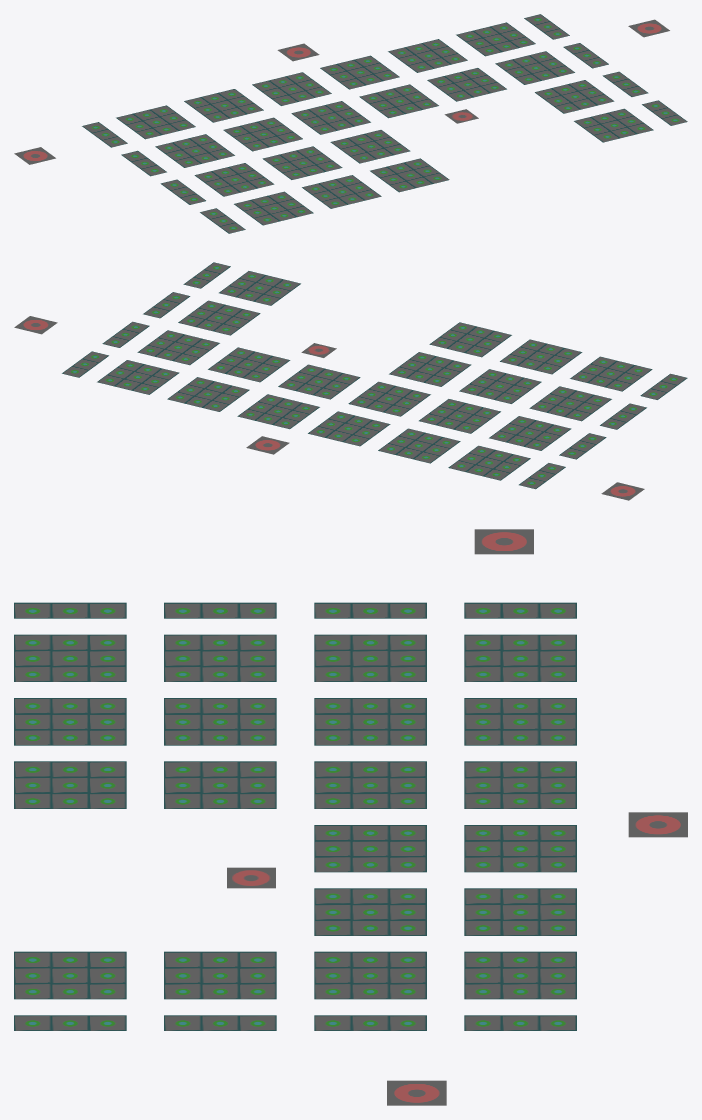
Rendered from tobuild.obj.
3 renders of one model, top to bottom at view 1: azimuth 30°, elevation 25°; view 2: azimuth 150°, elevation 25°; view 3: azimuth 270°, elevation 25°, orthographic. The views are drawn at different scales.
Parts seen in each view (by area): view 1: tobuild_railway_Plane.226, tobuild_airport_Plane.228, tobuild_factory_Plane.229; view 2: tobuild_railway_Plane.226, tobuild_airport_Plane.228, tobuild_factory_Plane.229; view 3: tobuild_factory_Plane.229, tobuild_airport_Plane.228, tobuild_railway_Plane.226, tobuild_sea_Plane.227.
Part boxes in pixels (x1=…): tobuild_railway_Plane.226: x1=277, y1=43, x2=319, y2=61; tobuild_airport_Plane.228: x1=14, y1=147, x2=55, y2=164; tobuild_factory_Plane.229: x1=628, y1=19, x2=669, y2=37; tobuild_railway_Plane.226: x1=246, y1=436, x2=289, y2=454; tobuild_airport_Plane.228: x1=601, y1=482, x2=644, y2=500; tobuild_factory_Plane.229: x1=14, y1=316, x2=57, y2=334; tobuild_factory_Plane.229: x1=387, y1=1080, x2=446, y2=1105; tobuild_airport_Plane.228: x1=474, y1=529, x2=533, y2=554; tobuild_railway_Plane.226: x1=628, y1=812, x2=687, y2=837; tobuild_sea_Plane.227: x1=227, y1=867, x2=275, y2=888.
Size of the model in its own units: 72.71 by 0 by 35.92.
2 materials, 2 textured.
